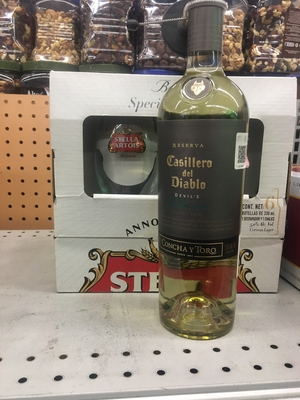casillero del diablo devils collection verde: (143, 10, 273, 355)
